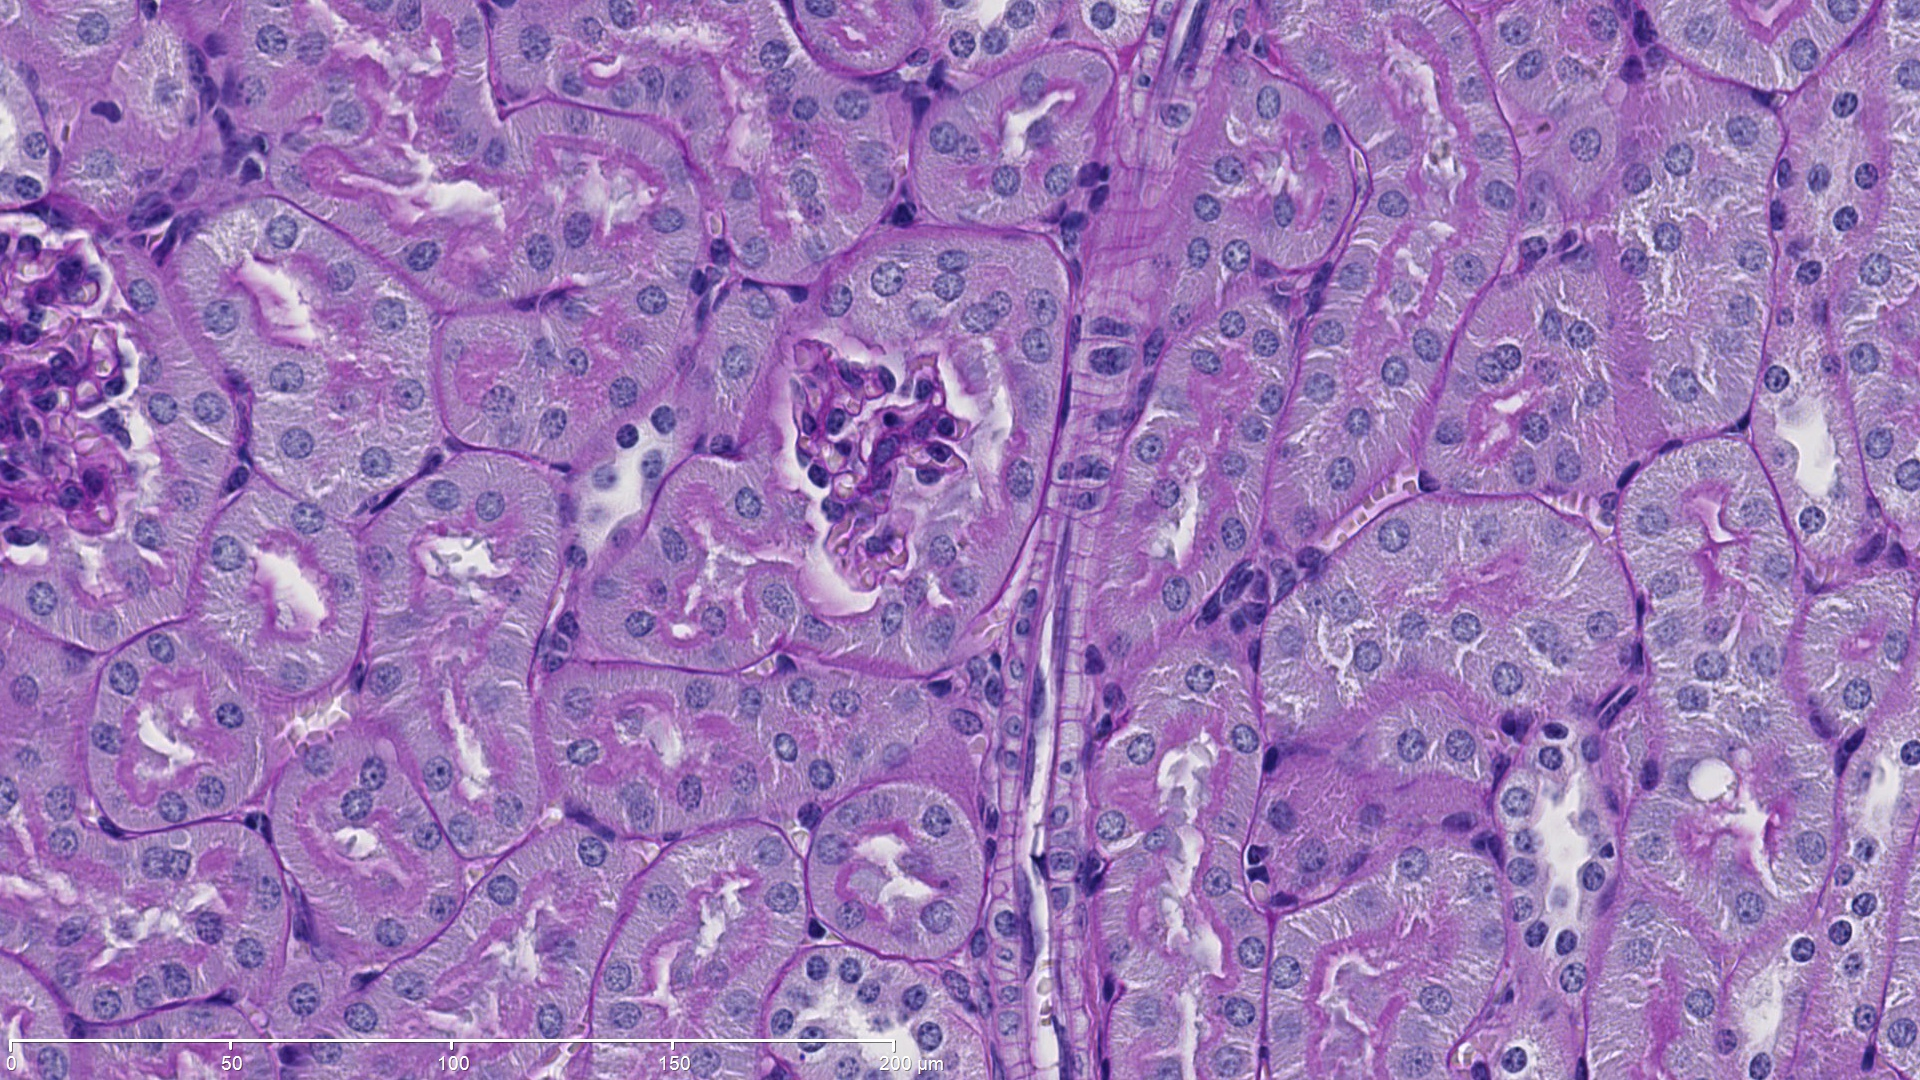Glomeruli: (3, 204, 152, 563), (779, 334, 985, 593)
